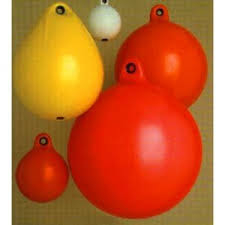buoy: (67, 58, 203, 218), (116, 5, 208, 112), (16, 134, 69, 204)
